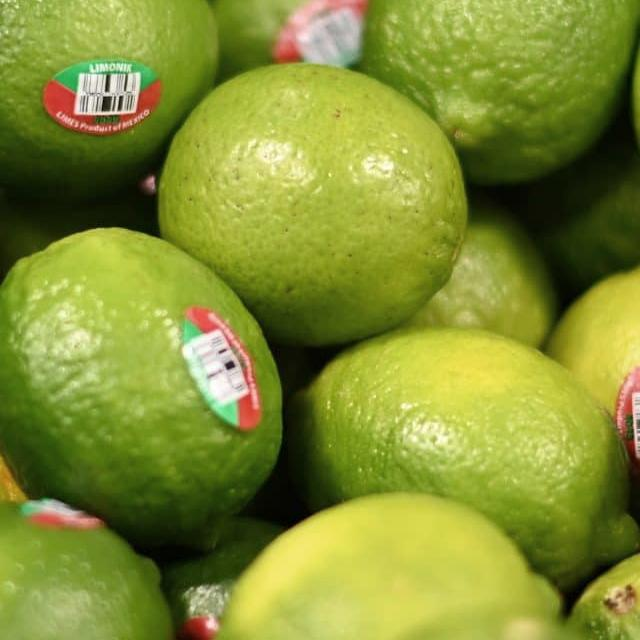lime: (310, 326, 640, 610), (156, 64, 474, 348), (0, 232, 289, 535), (372, 0, 640, 192), (218, 496, 559, 640), (0, 504, 194, 640)
